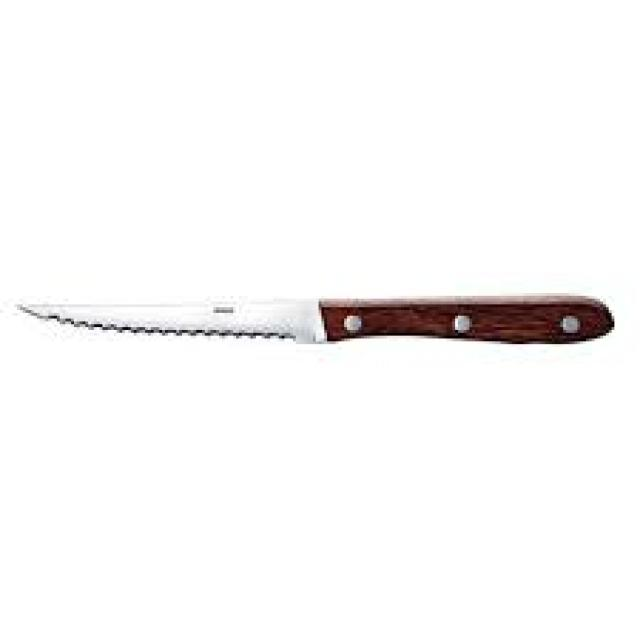knife: (14, 290, 628, 370)
